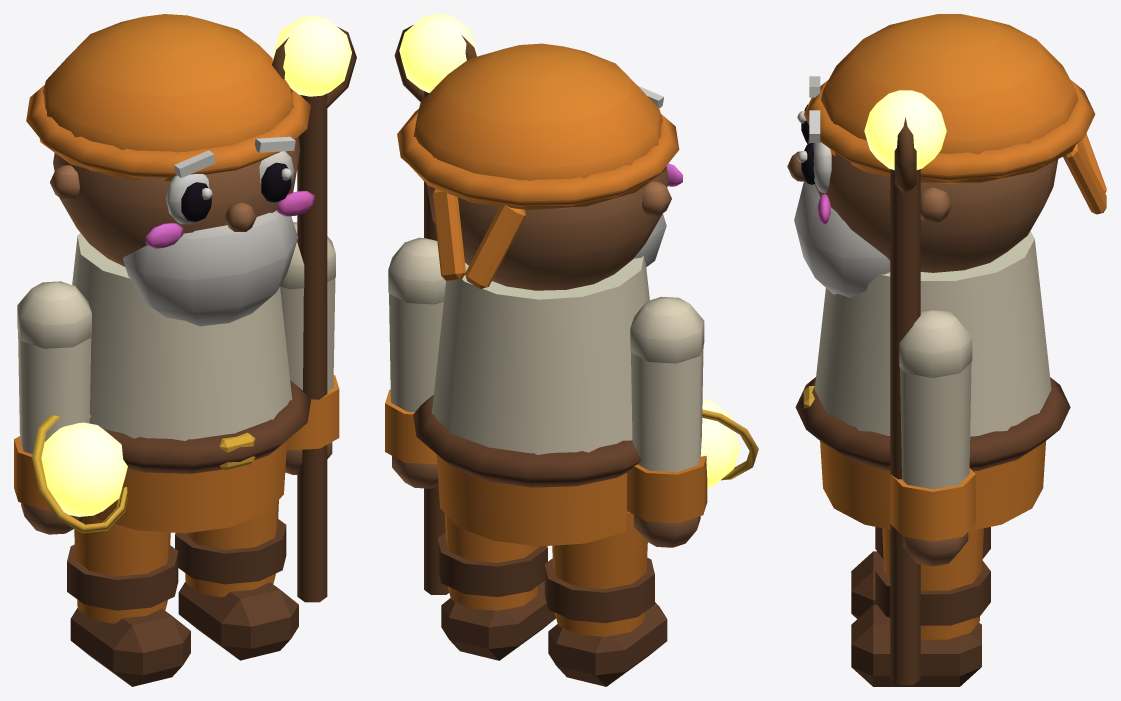
Rendered from hero_idris.glb.
3 views of the same model, side by side, from view 1: azimuth 30°, elevation 25°; view 2: azimuth 150°, elevation 25°; view 3: azimuth 270°, elevation 25° (orthographic). The views are drawn at different scales.
Visible parts, largest first — view 1: body_t0_palette, armr_t0_palette, legl_t0_palette, arml_t0_palette, legr_t0_palette, arml_t0_glow_gold, armr_t0_glow_gold; view 2: body_t0_palette, arml_t0_palette, legl_t0_palette, armr_t0_palette, legr_t0_palette, armr_t0_glow_gold, arml_t0_glow_gold; view 3: body_t0_palette, armr_t0_palette, legr_t0_palette, armr_t0_glow_gold, legl_t0_palette.
Boxes of the visible parts, <box> form: body_t0_palette: <box>26,14,314,533</box>; armr_t0_palette: <box>272,27,356,602</box>; legl_t0_palette: <box>67,514,190,686</box>; arml_t0_palette: <box>14,281,128,534</box>; legr_t0_palette: <box>175,500,298,660</box>; arml_t0_glow_gold: <box>41,422,127,516</box>; armr_t0_glow_gold: <box>272,16,351,96</box>; body_t0_palette: <box>397,43,682,546</box>; arml_t0_palette: <box>627,296,758,547</box>; legl_t0_palette: <box>544,512,667,686</box>; armr_t0_palette: <box>385,25,476,594</box>; legr_t0_palette: <box>437,514,555,660</box>; armr_t0_glow_gold: <box>399,14,477,92</box>; arml_t0_glow_gold: <box>700,398,739,488</box>; body_t0_palette: <box>787,14,1106,531</box>; armr_t0_palette: <box>890,117,975,685</box>; legr_t0_palette: <box>851,528,990,686</box>; armr_t0_glow_gold: <box>864,90,946,170</box>; legl_t0_palette: <box>851,527,990,618</box>.
Size of the model in its own units: 0.292 by 0.4992 by 0.2322.
